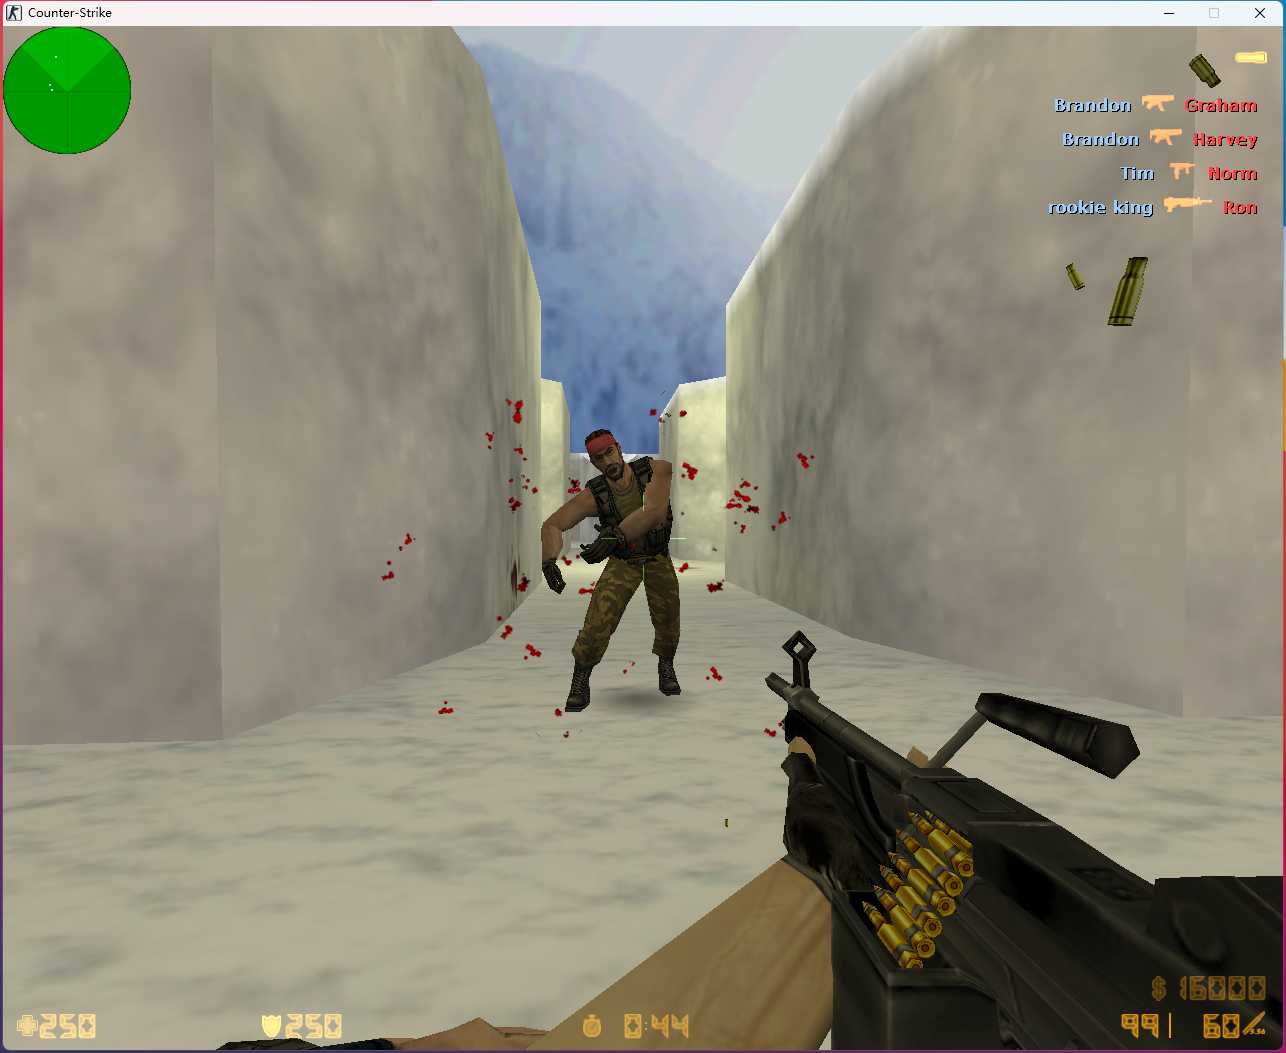T: (540, 430, 683, 714)
